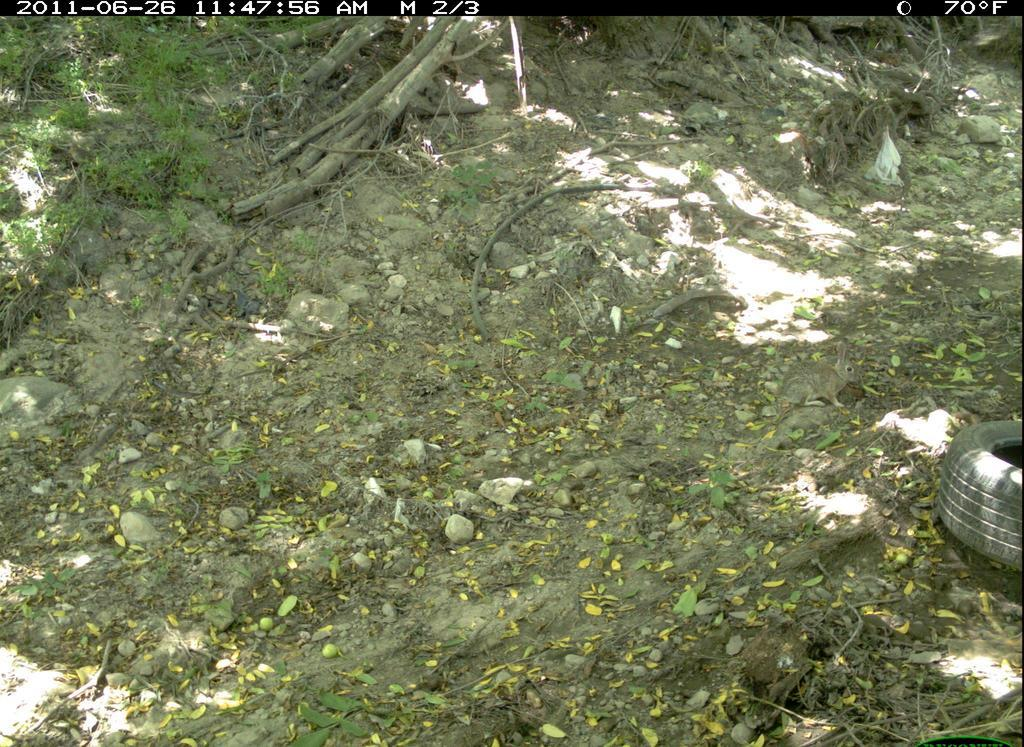rabbit: (775, 334, 868, 413)
